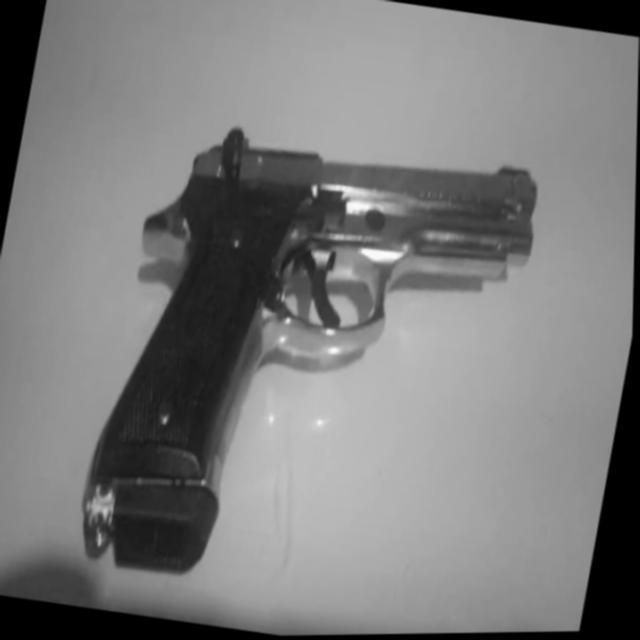weapon: (72, 107, 548, 624)
